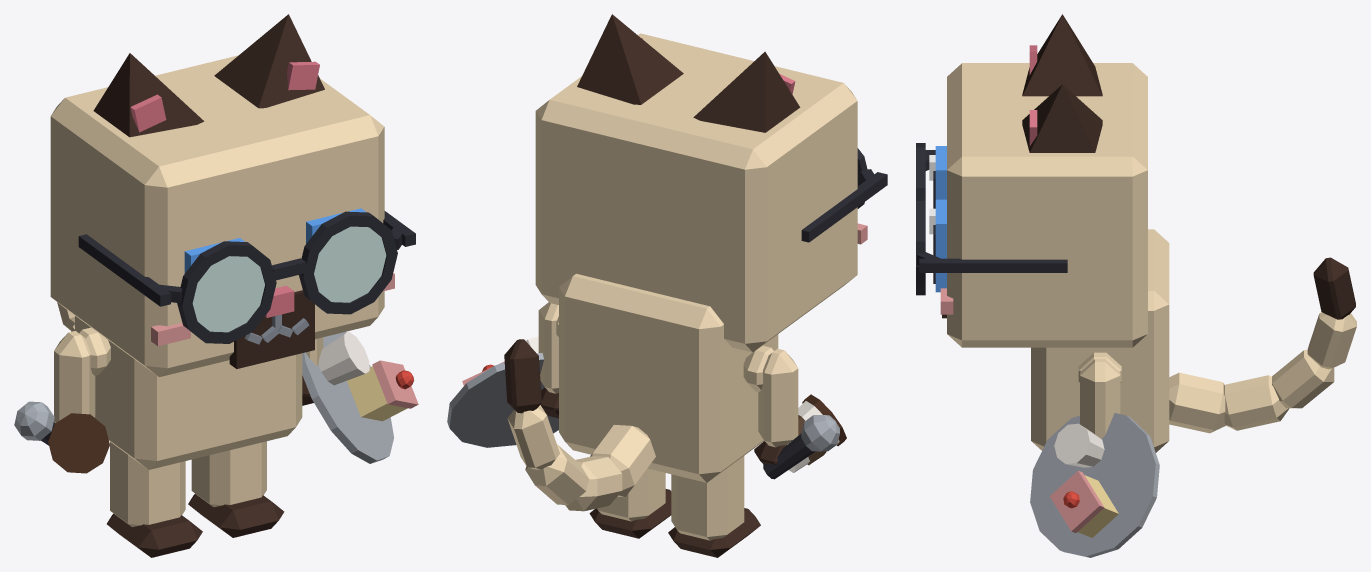
Rendered from CatCafe_Cat_Siamese_Work.glb.
3 renders of one model, left to right at view 1: azimuth 30°, elevation 25°; view 2: azimuth 150°, elevation 25°; view 3: azimuth 270°, elevation 25°, orthographic. The views are drawn at different scales.
Visible parts, largest first — view 1: CatCafe_Cat_Siamese_Work_Head, CatCafe_Cat_Siamese_Work_Body, CatCafe_Cat_Siamese_Work_Prop, CatCafe_Cat_Siamese_Work_Held_Waiter, CatCafe_Cat_Siamese_Work_Prop_Glass, CatCafe_Cat_Siamese_Work_LegB2, CatCafe_Cat_Siamese_Work_LegB1, CatCafe_Cat_Siamese_Work_EarL, CatCafe_Cat_Siamese_Work_EarR, CatCafe_Cat_Siamese_Work_LegF2, CatCafe_Cat_Siamese_Work_Held_Barista, CatCafe_Cat_Siamese_Work_Held_Entertainer; view 2: CatCafe_Cat_Siamese_Work_Head, CatCafe_Cat_Siamese_Work_Body, CatCafe_Cat_Siamese_Work_Tail, CatCafe_Cat_Siamese_Work_LegB2, CatCafe_Cat_Siamese_Work_EarL, CatCafe_Cat_Siamese_Work_EarR, CatCafe_Cat_Siamese_Work_Held_Waiter, CatCafe_Cat_Siamese_Work_LegF2, CatCafe_Cat_Siamese_Work_LegB1, CatCafe_Cat_Siamese_Work_Held_Entertainer, CatCafe_Cat_Siamese_Work_LegF1, CatCafe_Cat_Siamese_Work_Prop (+1 smaller); view 3: CatCafe_Cat_Siamese_Work_Head, CatCafe_Cat_Siamese_Work_Held_Waiter, CatCafe_Cat_Siamese_Work_Tail, CatCafe_Cat_Siamese_Work_Body, CatCafe_Cat_Siamese_Work_EarR, CatCafe_Cat_Siamese_Work_EarL, CatCafe_Cat_Siamese_Work_Prop, CatCafe_Cat_Siamese_Work_LegF1, CatCafe_Cat_Siamese_Work_Eye1, CatCafe_Cat_Siamese_Work_Eye2.
Part boxes in pixels (x1,y1,x2,y2): CatCafe_Cat_Siamese_Work_Head: [50, 55, 394, 377]; CatCafe_Cat_Siamese_Work_Body: [75, 316, 302, 469]; CatCafe_Cat_Siamese_Work_Prop: [78, 211, 415, 343]; CatCafe_Cat_Siamese_Work_Held_Waiter: [302, 331, 418, 463]; CatCafe_Cat_Siamese_Work_Prop_Glass: [192, 226, 386, 332]; CatCafe_Cat_Siamese_Work_LegB2: [107, 442, 202, 557]; CatCafe_Cat_Siamese_Work_LegB1: [188, 441, 284, 537]; CatCafe_Cat_Siamese_Work_EarL: [214, 14, 324, 108]; CatCafe_Cat_Siamese_Work_EarR: [93, 53, 204, 137]; CatCafe_Cat_Siamese_Work_LegF2: [54, 331, 95, 422]; CatCafe_Cat_Siamese_Work_Held_Barista: [48, 413, 109, 473]; CatCafe_Cat_Siamese_Work_Held_Entertainer: [14, 401, 55, 445]; CatCafe_Cat_Siamese_Work_Head: [535, 33, 867, 352]; CatCafe_Cat_Siamese_Work_Body: [556, 273, 778, 482]; CatCafe_Cat_Siamese_Work_Tail: [504, 339, 655, 511]; CatCafe_Cat_Siamese_Work_LegB2: [668, 456, 760, 557]; CatCafe_Cat_Siamese_Work_EarL: [577, 14, 683, 104]; CatCafe_Cat_Siamese_Work_EarR: [693, 51, 800, 132]; CatCafe_Cat_Siamese_Work_Held_Waiter: [447, 336, 558, 447]; CatCafe_Cat_Siamese_Work_LegF2: [754, 348, 798, 464]; CatCafe_Cat_Siamese_Work_LegB1: [589, 468, 671, 538]; CatCafe_Cat_Siamese_Work_Held_Entertainer: [763, 415, 839, 479]; CatCafe_Cat_Siamese_Work_LegF1: [538, 302, 558, 418]; CatCafe_Cat_Siamese_Work_Prop: [801, 148, 887, 242]; CatCafe_Cat_Siamese_Work_Head: [940, 63, 1147, 347]; CatCafe_Cat_Siamese_Work_Held_Waiter: [1030, 413, 1159, 557]; CatCafe_Cat_Siamese_Work_Tail: [1169, 257, 1356, 433]; CatCafe_Cat_Siamese_Work_Body: [1031, 229, 1169, 452]; CatCafe_Cat_Siamese_Work_EarR: [1022, 14, 1102, 96]; CatCafe_Cat_Siamese_Work_EarL: [1022, 84, 1102, 152]; CatCafe_Cat_Siamese_Work_Prop: [916, 143, 1067, 295]; CatCafe_Cat_Siamese_Work_LegF1: [1080, 359, 1120, 438]; CatCafe_Cat_Siamese_Work_Eye1: [929, 199, 946, 292]; CatCafe_Cat_Siamese_Work_Eye2: [929, 146, 946, 208].
Bounding box in the file's own units: 1.53 × 1.93 × 1.67.
1 material, 1 textured.
